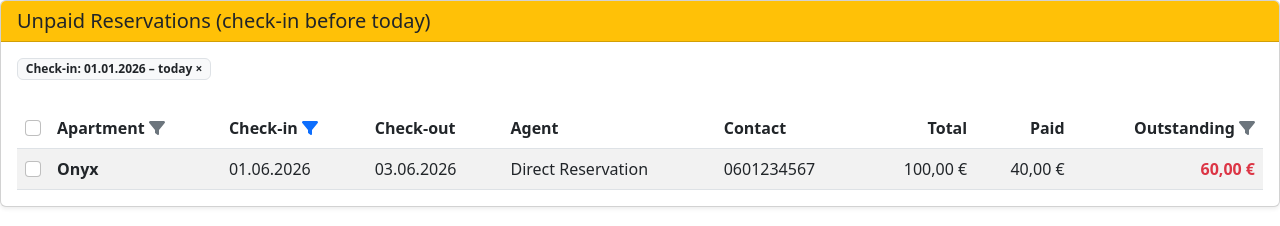
Scenario: UnpaidReservationsReport › Batch write-off › should not show the write-off button until a row is selected
expect the text "Onyx" is shown: met, box [57, 158, 99, 180]
expect the button "write off selected" is not shown: met
# appears after selecting a row
What coordinates should you click on to do the following:
click the checkbox named "select Onyx"
I would click on:
 (33, 169)
Its box is [25, 161, 41, 177].
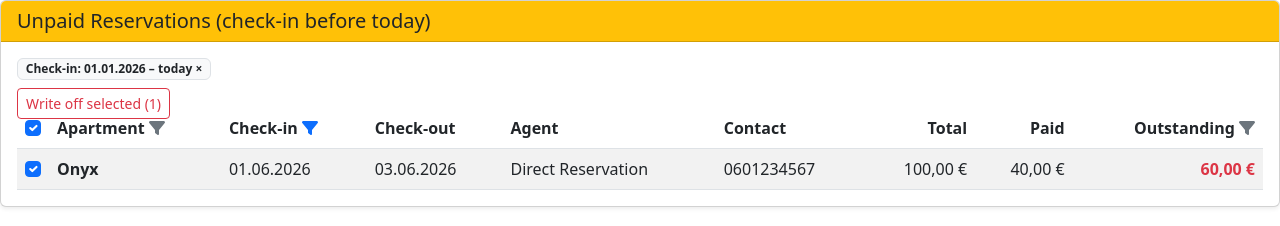
expect the button "Write off selected (1)" is shown: met, box [17, 88, 170, 119]
